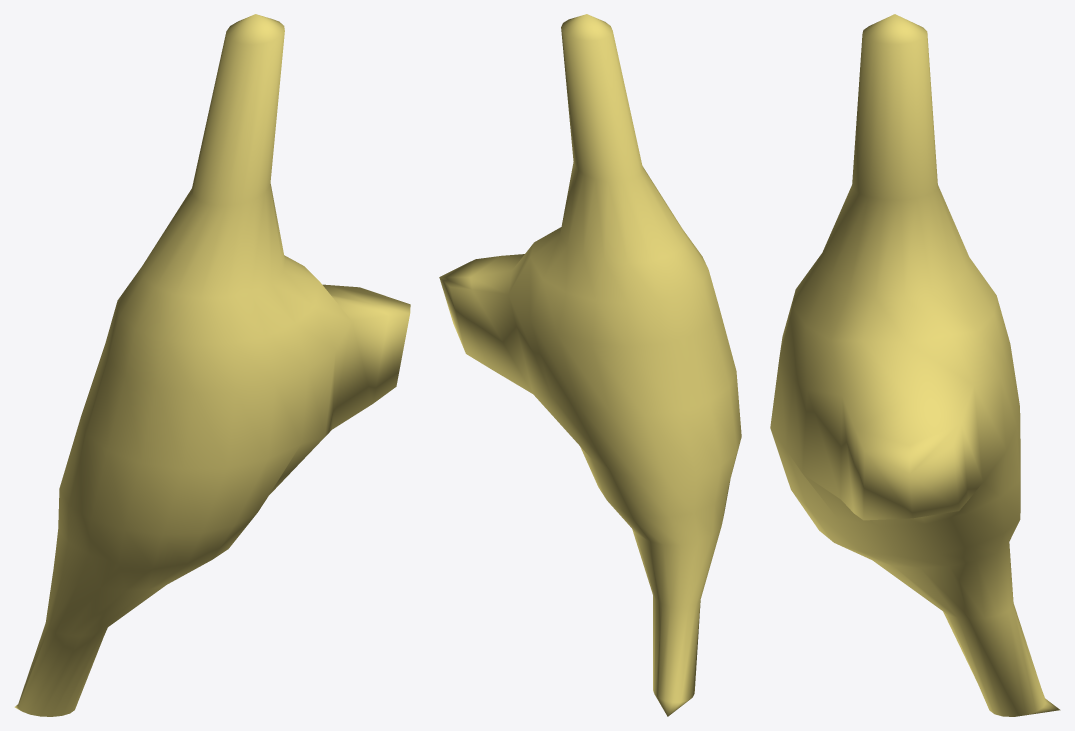
The model's file is vestibular-nuclei-l.glb.
3 renders of one model, left to right at view 1: azimuth 30°, elevation 25°; view 2: azimuth 150°, elevation 25°; view 3: azimuth 270°, elevation 25°, orthographic. The views are drawn at different scales.
Visible parts, largest first — view 1: Vestibular nuclei.l; view 2: Vestibular nuclei.l; view 3: Vestibular nuclei.l.
Boxes of the visible parts, <box> form: Vestibular nuclei.l: <box>14,14,410,716</box>; Vestibular nuclei.l: <box>439,14,741,716</box>; Vestibular nuclei.l: <box>770,14,1060,716</box>.
Size of the model in its own units: 0.00692 by 0.0138 by 0.00462.
